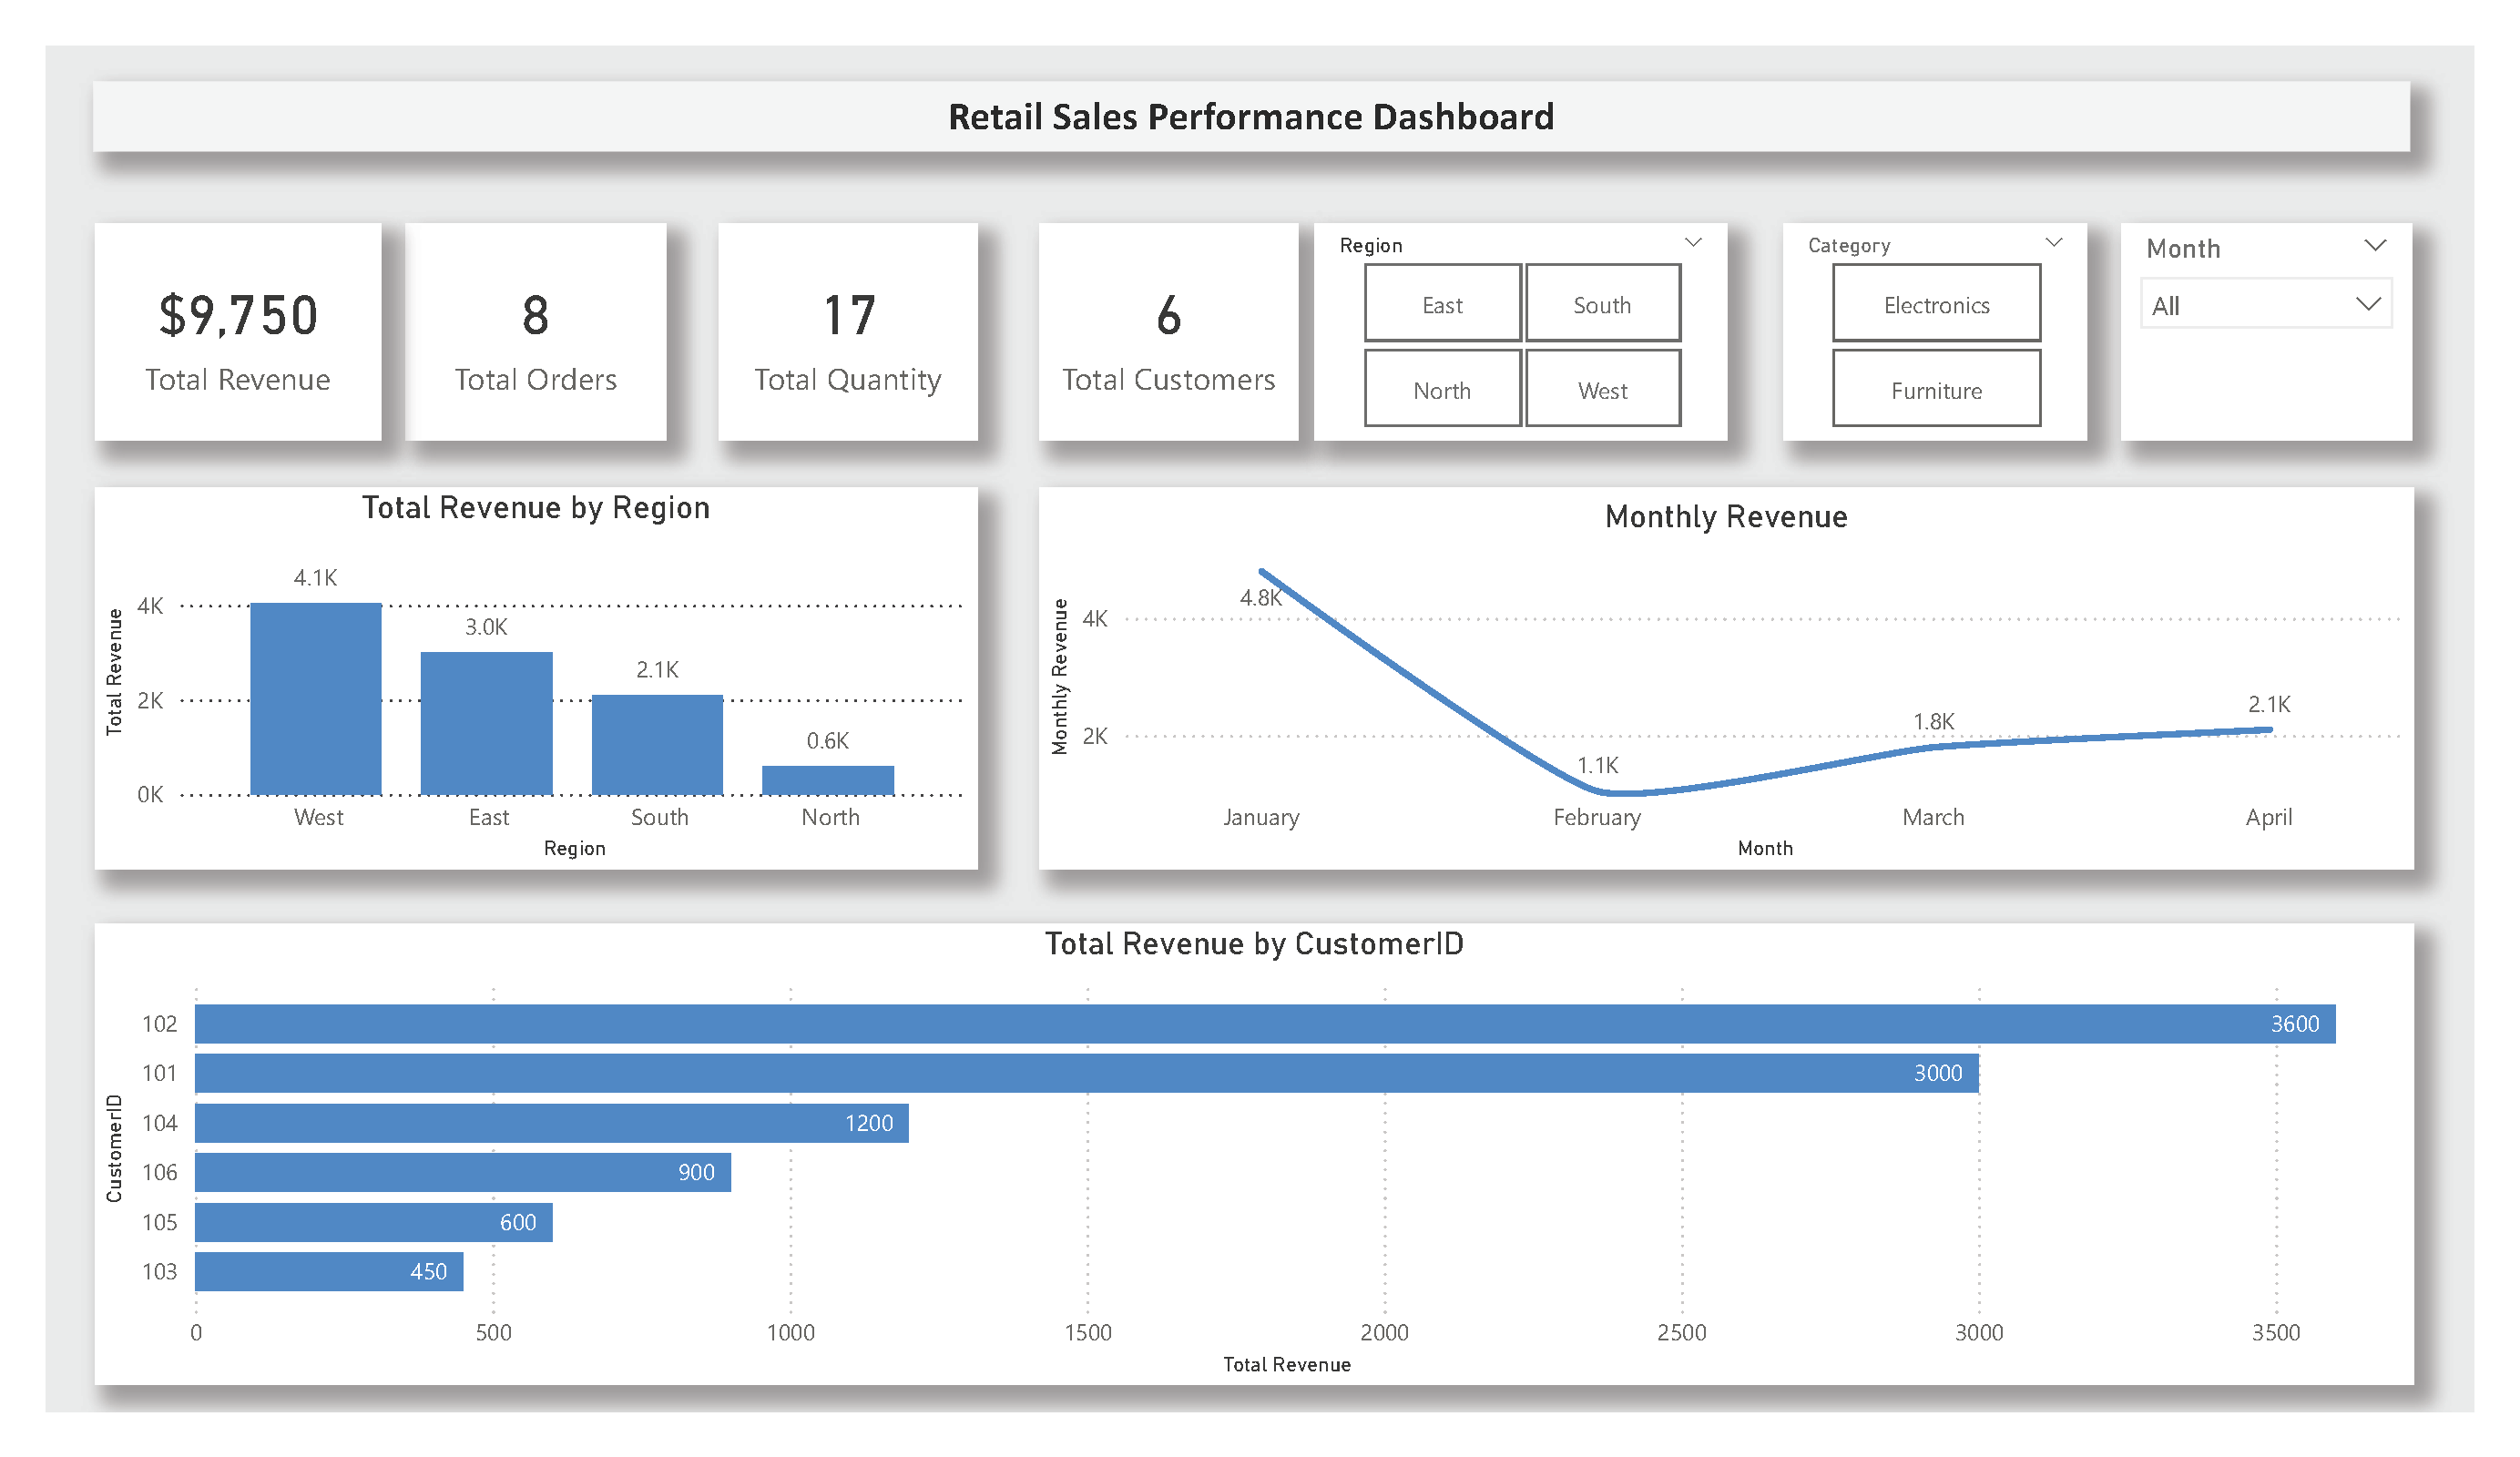

What the dashboard file says about the page in this screenshot:
{"tool":"powerbi","page":{"name":"Page 1","canvas":[1280,720],"ordinal":0},"visuals":[{"type":"clusteredColumnChart","fields":{"Category":["sales.Region"],"Y":["sales.Total Revenue"]},"box":[26.2,232.5,465,201.2],"z":0},{"type":"lineChart","title":"Monthly Revenue","fields":{"Y":["sales.Monthly Revenue"],"Category":["sales.OrderDate.Variation.Date Hierarchy.Month"]},"box":[523.8,232.5,723.8,201.2],"z":1000},{"type":"card","fields":{"Values":["sales.Total Quantity"]},"box":[354.5,94.1,136.8,113.8],"z":2000},{"type":"card","fields":{"Values":["sales.Total Customers"]},"box":[524.1,94.1,135.7,113.8],"z":3000},{"type":"card","fields":{"Values":["sales.Total Orders"]},"box":[190.4,94.1,136.8,113.8],"z":4000},{"type":"card","fields":{"Values":["sales.Total Revenue"]},"box":[26.3,94.1,151,113.8],"z":5000},{"type":"barChart","fields":{"Category":["sales.CustomerID"],"Y":["sales.Total Revenue"]},"box":[26.2,462.5,1221.2,243.8],"z":6000},{"type":"slicer","fields":{"Values":["sales.Region"]},"box":[668.6,94.1,217.8,113.8],"z":7000},{"type":"slicer","title":"Filter by Category","fields":{"Values":["sales.Category"]},"box":[915.9,94.1,159.8,113.8],"z":8000},{"type":"slicer","fields":{"Values":["sales.OrderDate.Variation.Date Hierarchy.Month"]},"box":[1094.2,94.1,153.2,113.8],"z":9000},{"type":"textbox","box":[24.9,19.5,1221.6,36.8],"z":10000}]}

Visuals, with their boxes in screenshot pixels (x1, y1, x2, y2):
clusteredColumnChart - sales.Region x sales.Total Revenue: (x1=121, y1=488, x2=992, y2=864)
"Monthly Revenue" lineChart: (x1=1053, y1=488, x2=2409, y2=864)
card - sales.Total Quantity: (x1=736, y1=229, x2=993, y2=442)
card - sales.Total Customers: (x1=1054, y1=229, x2=1308, y2=442)
card - sales.Total Orders: (x1=429, y1=229, x2=685, y2=442)
card - sales.Total Revenue: (x1=121, y1=229, x2=404, y2=442)
barChart - sales.CustomerID x sales.Total Revenue: (x1=121, y1=919, x2=2408, y2=1375)
slicer - sales.Region: (x1=1324, y1=229, x2=1732, y2=442)
"Filter by Category" slicer: (x1=1788, y1=229, x2=2086, y2=442)
slicer - sales.OrderDate.Variation.Date Hierarchy.Month: (x1=2121, y1=229, x2=2408, y2=442)
textbox: (x1=118, y1=89, x2=2406, y2=158)
